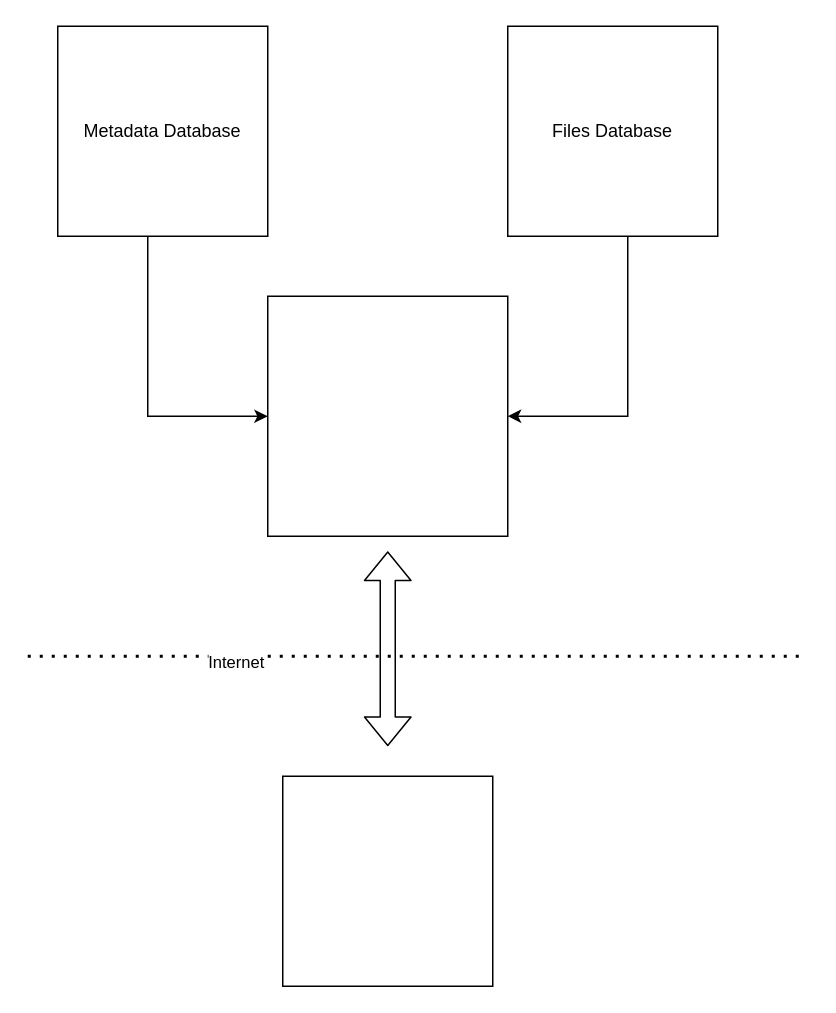
This 836x1013 diagram has some shape labels left out. Here are the shapes that lost their labels. From the top down, the centre of each, then its label:
the point at 387,415: File Sync Service
the point at 387,880: Client
